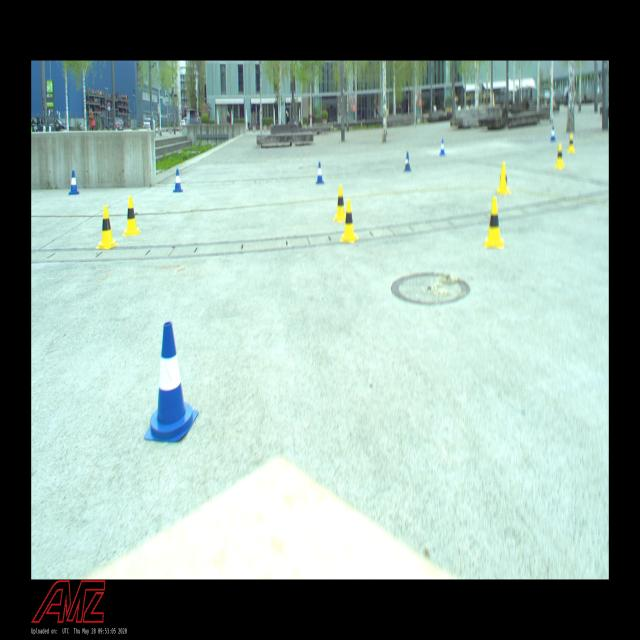blue_cone: (144, 321, 198, 440), (67, 170, 80, 196), (173, 169, 182, 193), (315, 161, 324, 185), (404, 151, 412, 172), (438, 137, 446, 157), (550, 125, 556, 142)
yellow_cone: (484, 196, 504, 250), (96, 206, 117, 250), (339, 199, 358, 243), (122, 196, 141, 236), (333, 185, 348, 222), (496, 162, 511, 196), (555, 142, 565, 170), (567, 133, 575, 154)
